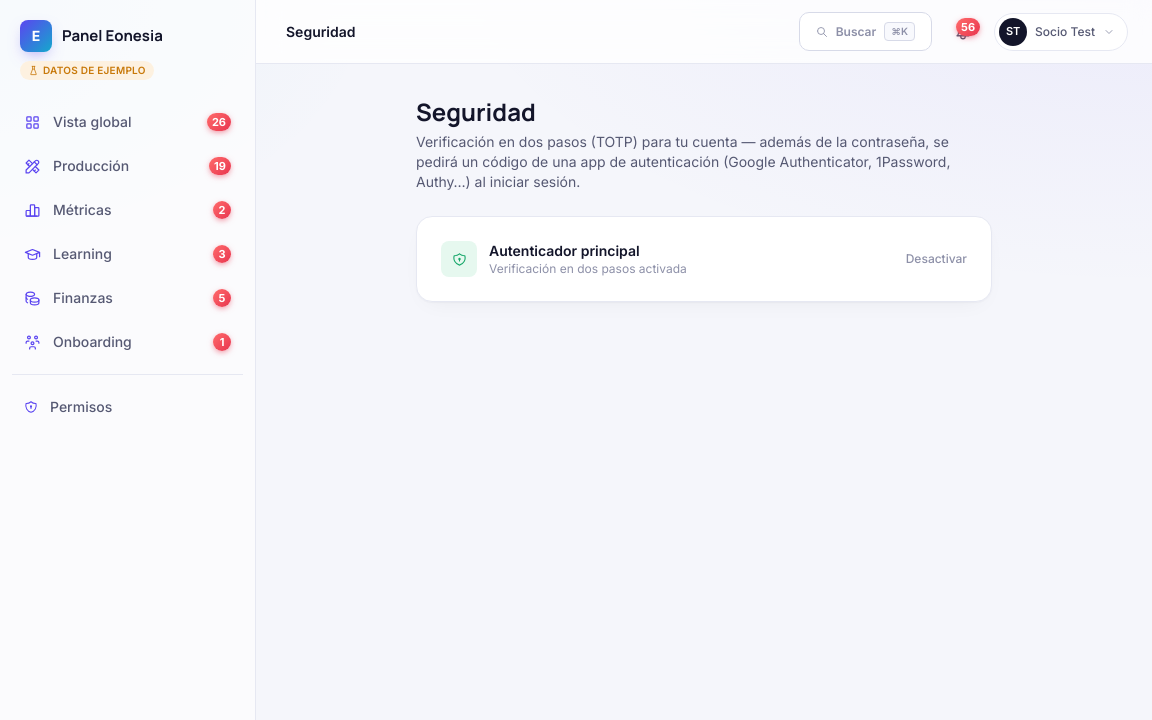
Test case: SecurityPage — already enrolled › shows the active factor and can deactivate it
The width and height of the screenshot is (1152, 720).
Expected: the text "Autenticador principal" is shown, [489,242,640,259]
Click the button "Desactivar" at {"x": 936, "y": 259}, box [906,251,967,267]
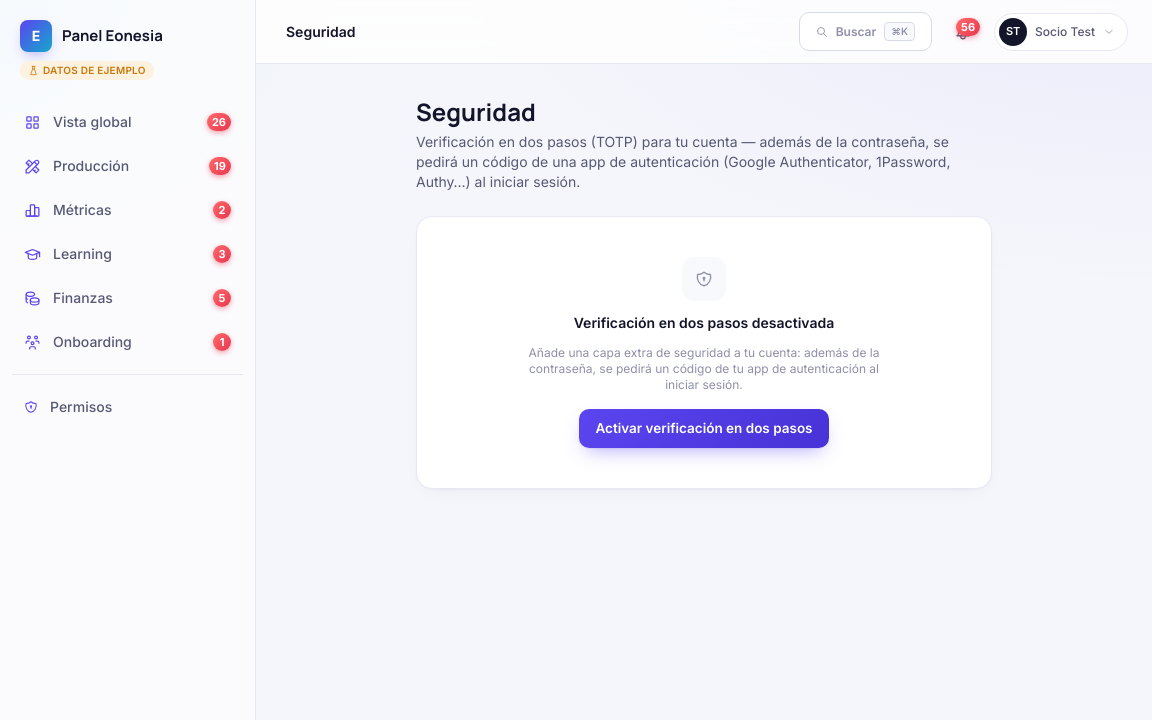
Now the text "Verificación en dos pasos desactivada" is shown, box [574,313,834,333]
